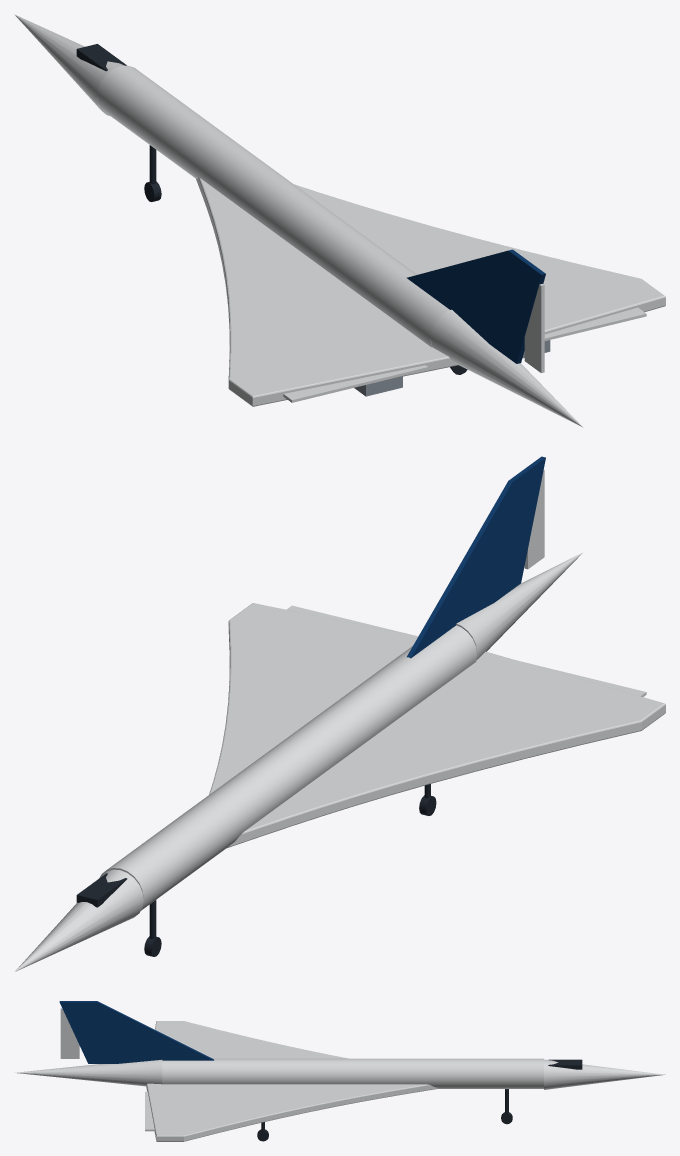
Rendered from concorde.glb.
3 renders of one model, top to bottom at view 1: azimuth 30°, elevation 25°; view 2: azimuth 150°, elevation 25°; view 3: azimuth 270°, elevation 25°, orthographic. The views are drawn at different scales.
Visible parts, largest first — view 1: ogival_delta_wing, fuselage_main, vertical_stabilizer, fuselage_tail_cone, droop_nose_cone, rudder_surface, elevon_left, elevon_right, cockpit_visor; view 2: ogival_delta_wing, fuselage_main, vertical_stabilizer, droop_nose_cone, fuselage_tail_cone, rudder_surface, cockpit_visor; view 3: ogival_delta_wing, fuselage_main, vertical_stabilizer, fuselage_tail_cone, droop_nose_cone, rudder_surface, cockpit_visor, elevon_right.
Boxes of the visible parts, left/top/right/bottom form: ogival_delta_wing: left=196, top=177, right=665, bottom=406; fuselage_main: left=97, top=65, right=449, bottom=347; vertical_stabilizer: left=407, top=249, right=545, bottom=363; fuselage_tail_cone: left=430, top=309, right=582, bottom=427; droop_nose_cone: left=14, top=14, right=124, bottom=115; rudder_surface: left=524, top=284, right=544, bottom=372; elevon_left: left=283, top=365, right=428, bottom=402; elevon_right: left=544, top=307, right=646, bottom=340; cockpit_visor: left=76, top=44, right=126, bottom=71; ogival_delta_wing: left=209, top=603, right=665, bottom=848; fuselage_main: left=100, top=625, right=477, bottom=910; vertical_stabilizer: left=407, top=456, right=545, bottom=658; droop_nose_cone: left=15, top=869, right=143, bottom=971; fuselage_tail_cone: left=456, top=552, right=582, bottom=659; rudder_surface: left=524, top=470, right=544, bottom=569; cockpit_visor: left=76, top=873, right=127, bottom=907; ogival_delta_wing: left=146, top=1021, right=439, bottom=1141; fuselage_main: left=162, top=1058, right=543, bottom=1088; vertical_stabilizer: left=59, top=1001, right=213, bottom=1063; fuselage_tail_cone: left=14, top=1060, right=162, bottom=1086; droop_nose_cone: left=544, top=1059, right=665, bottom=1089; rudder_surface: left=60, top=1008, right=79, bottom=1058; cockpit_visor: left=548, top=1059, right=582, bottom=1069; elevon_right: left=145, top=1091, right=154, bottom=1131.
Size of the model in its own units: 25.76 by 12.65 by 61.5.
